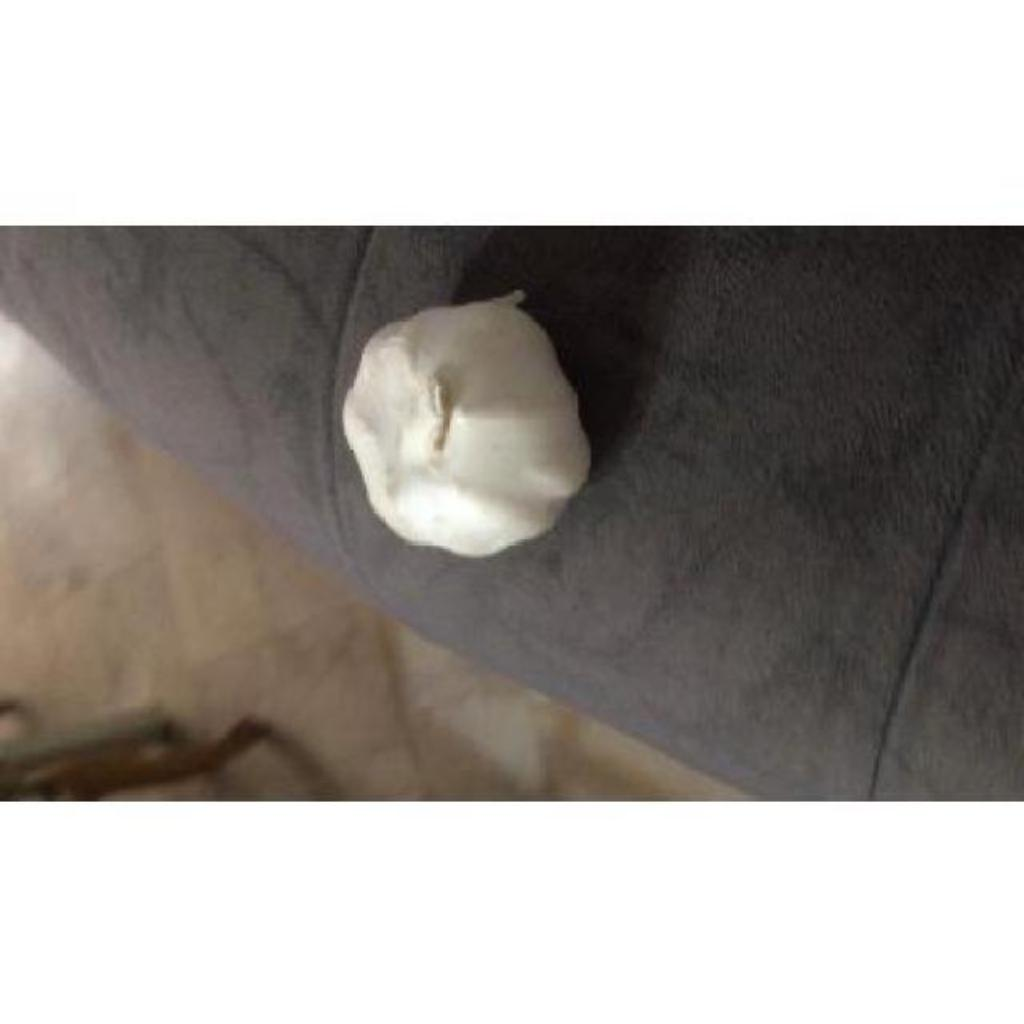garlic: (342, 290, 590, 556)
